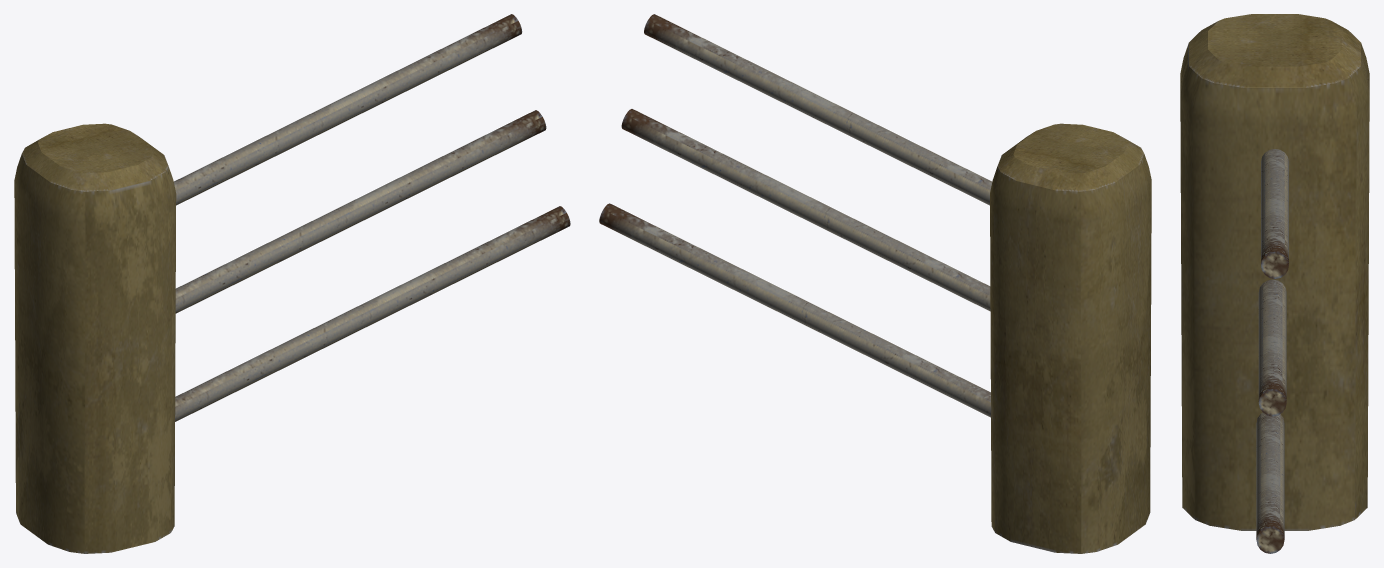
File: Fence Concrete  part2.fbx
The picture shows the model from 3 angles, left to right: view 1: azimuth 30°, elevation 25°; view 2: azimuth 150°, elevation 25°; view 3: azimuth 270°, elevation 25°; orthographic projection. The views are drawn at different scales.
Visible parts, largest first — view 1: Cerca de concreto ladeira 2; view 2: Cerca de concreto ladeira 2; view 3: Cerca de concreto ladeira 2.
Boxes of the visible parts, bbox=[...] form: Cerca de concreto ladeira 2: bbox=[14, 14, 570, 553]; Cerca de concreto ladeira 2: bbox=[599, 14, 1151, 553]; Cerca de concreto ladeira 2: bbox=[1180, 14, 1369, 553].
Size of the model in its own units: 123 by 88.93 by 30.95.
